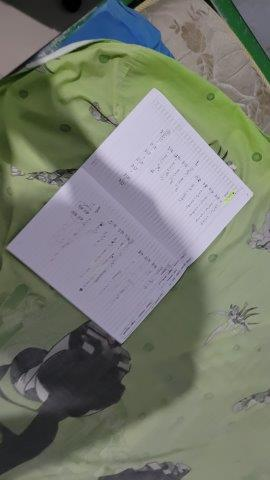kertas: (5, 88, 253, 345)
